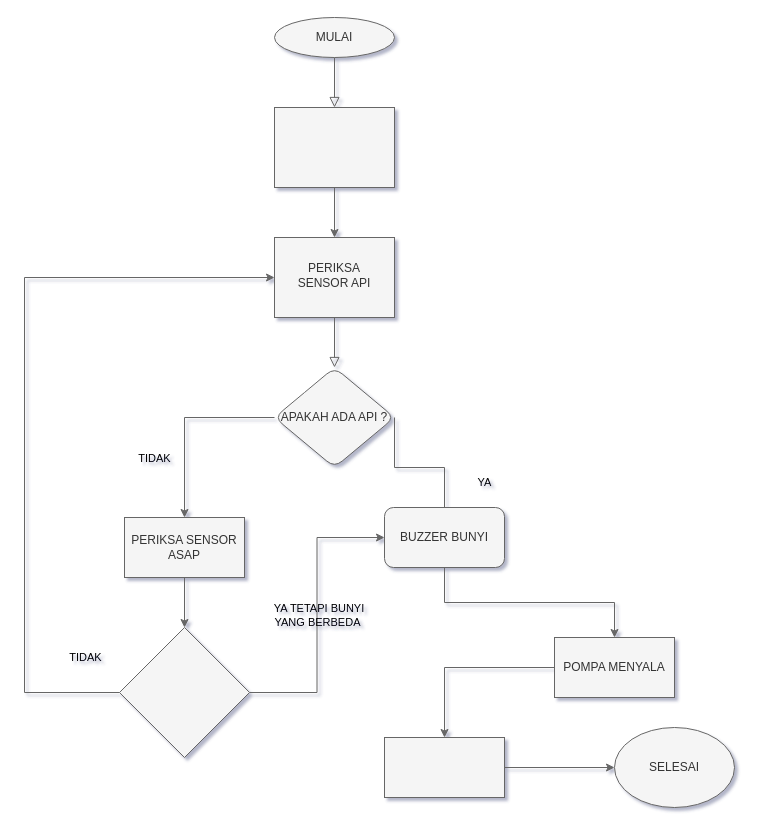
Image size: 758x831. Some labels were removed from this diagram. Each missing label, with the centre of its shape:
APAKAH ADA ASAP TERDETEKSI: point (184, 692)
MENYIRAM API: point (444, 767)
PERSIAPAN: point (334, 147)
